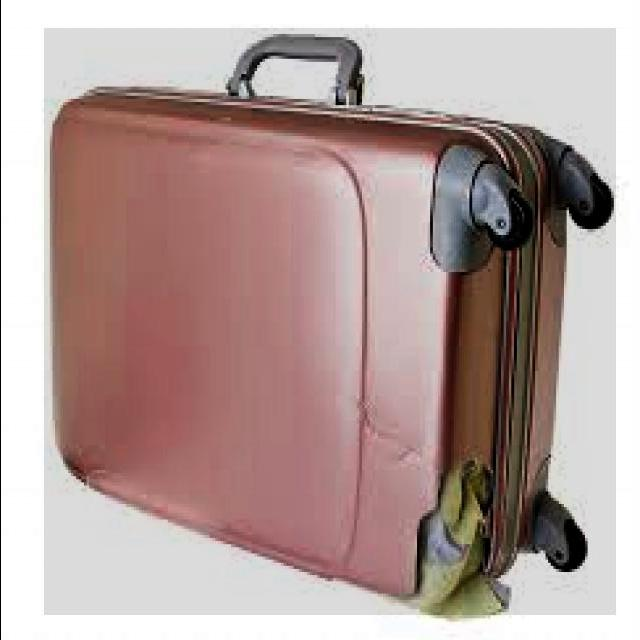Damage-bag: (401, 451, 505, 619), (59, 448, 104, 489)
